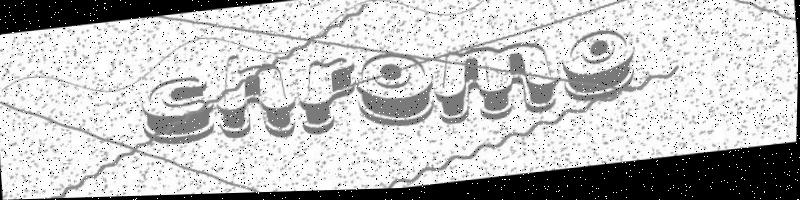c: (137, 73, 217, 148)
h: (215, 48, 301, 146)
m: (434, 38, 563, 130)
o: (555, 25, 641, 111), (357, 47, 440, 132)
r: (296, 51, 363, 141)
